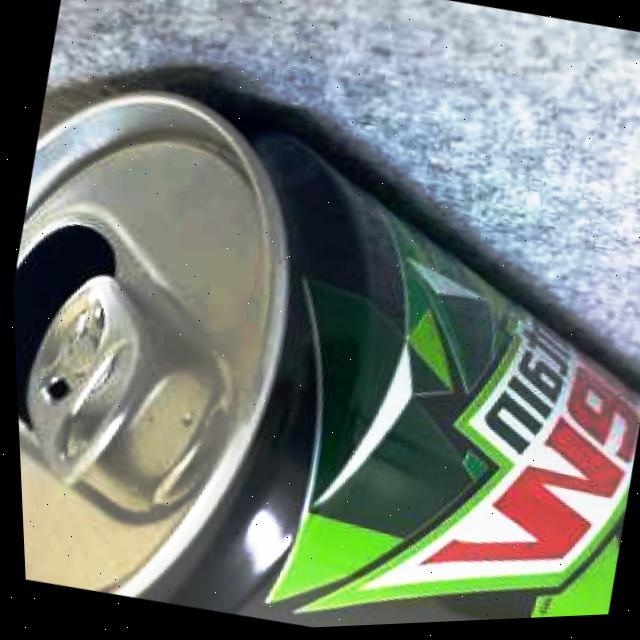Lata: (15, 65, 640, 627)
